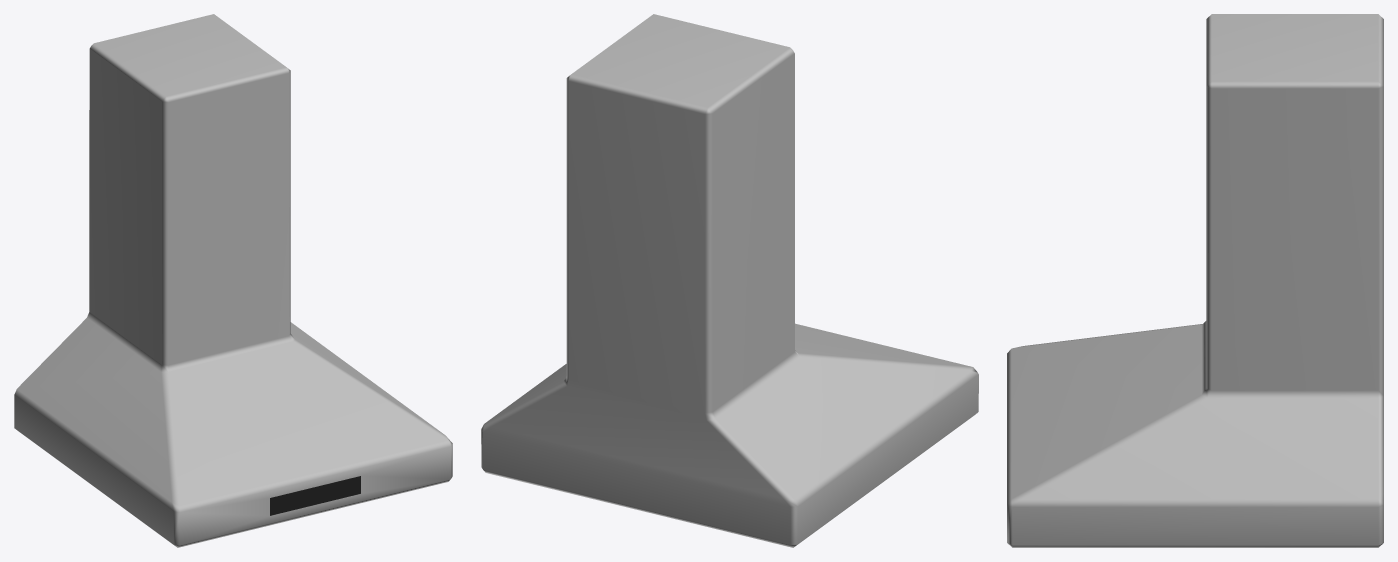
File: kitchen_001.fbx
3 views of the same model, side by side, from view 1: azimuth 30°, elevation 25°; view 2: azimuth 150°, elevation 25°; view 3: azimuth 270°, elevation 25° (orthographic). The views are drawn at different scales.
Parts seen in each view (by area): view 1: kitchen_001; view 2: kitchen_001; view 3: kitchen_001.
Boxes of the visible parts, x1=… form: kitchen_001: x1=14, y1=14, x2=452, y2=547; kitchen_001: x1=481, y1=14, x2=978, y2=547; kitchen_001: x1=1007, y1=14, x2=1383, y2=547.
Bounding box in the file's own units: 70.23 × 71.51 × 88.87.
